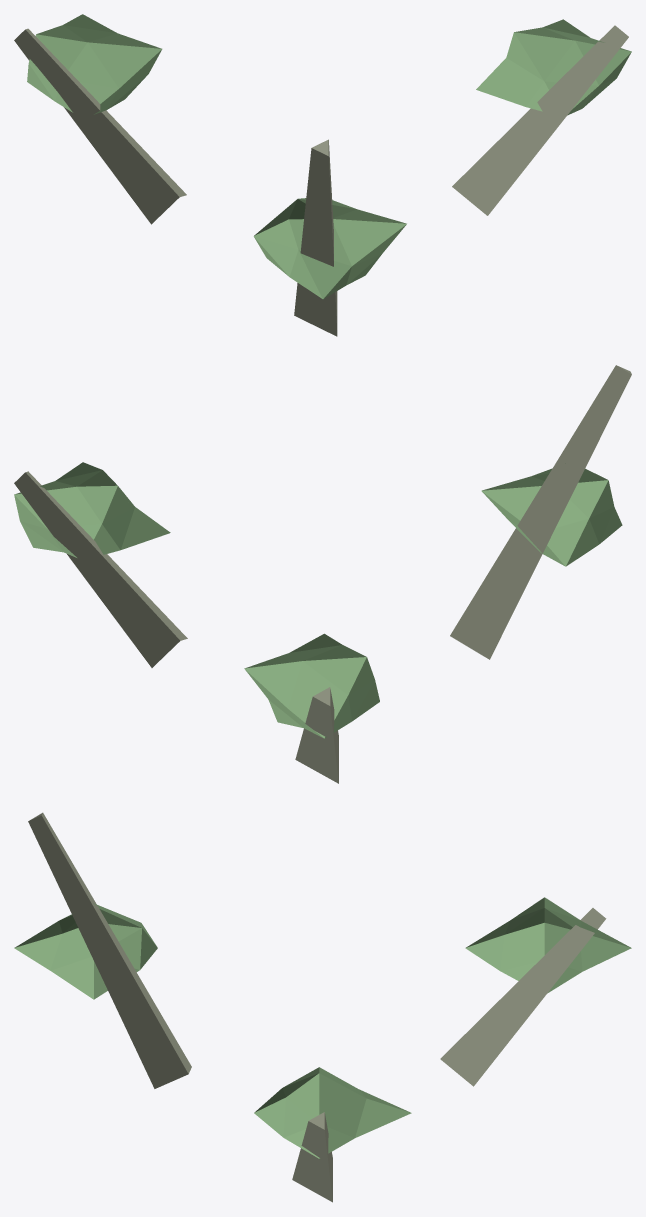
The model's file is bramble_v32.glb.
The picture shows the model from 3 angles, top to bottom: view 1: azimuth 30°, elevation 25°; view 2: azimuth 150°, elevation 25°; view 3: azimuth 270°, elevation 25°; orthographic projection. The views are drawn at different scales.
Parts seen in each view (by area): view 1: lod0; view 2: lod0; view 3: lod0.
Part boxes in pixels (box(x1,y1,x2,y2)): lod0: box(14, 14, 631, 336); lod0: box(14, 365, 631, 783); lod0: box(14, 812, 631, 1202).
Size of what is drawn, in the model's own units: 0.4849 by 0.2511 by 0.57.
